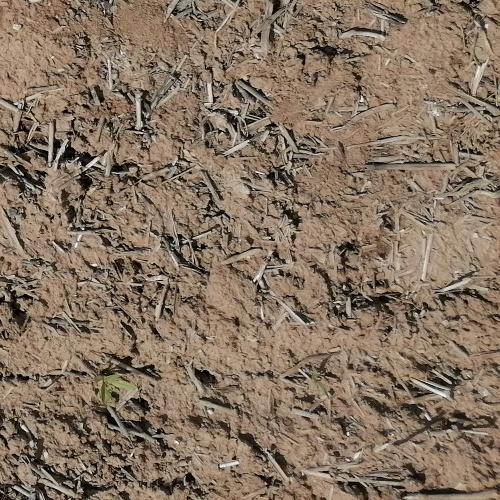beet: (91, 371, 136, 407)
